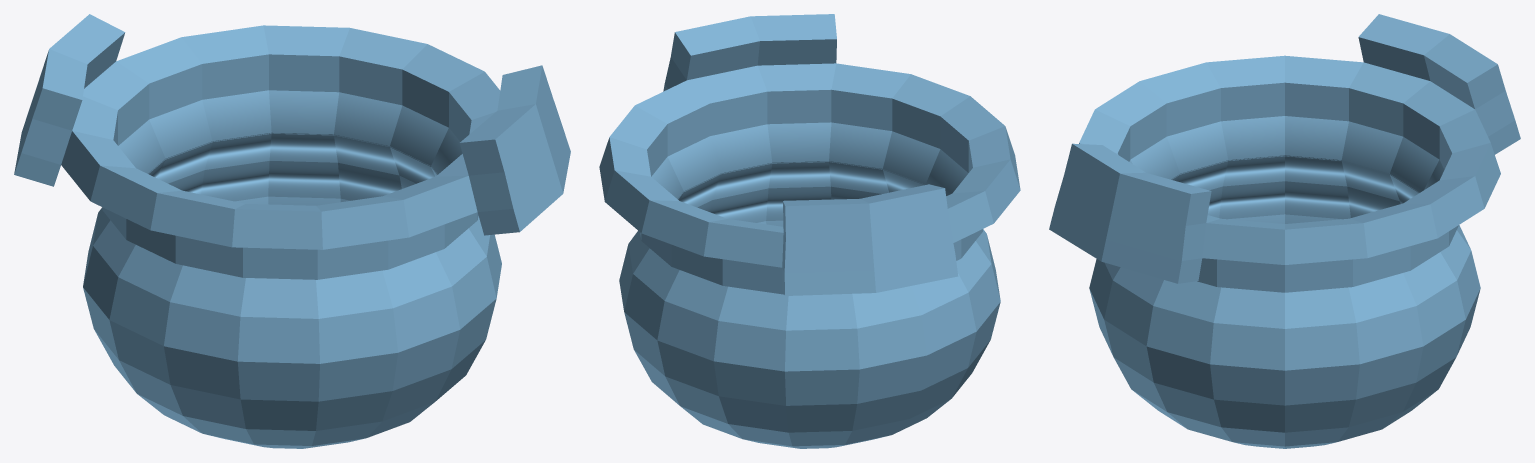
The model's file is blue_basket.fbx.
3 views of the same model, side by side, from view 1: azimuth 30°, elevation 25°; view 2: azimuth 150°, elevation 25°; view 3: azimuth 270°, elevation 25° (orthographic). The views are drawn at different scales.
Visible parts, largest first — view 1: polySurface1; view 2: polySurface1; view 3: polySurface1.
Part boxes in pixels (left/top/right/bottom): polySurface1: left=14, top=14, right=570, bottom=448; polySurface1: left=599, top=14, right=1020, bottom=448; polySurface1: left=1049, top=14, right=1520, bottom=448.
Size of the model in its own units: 7.82 by 5.94 by 7.82.
